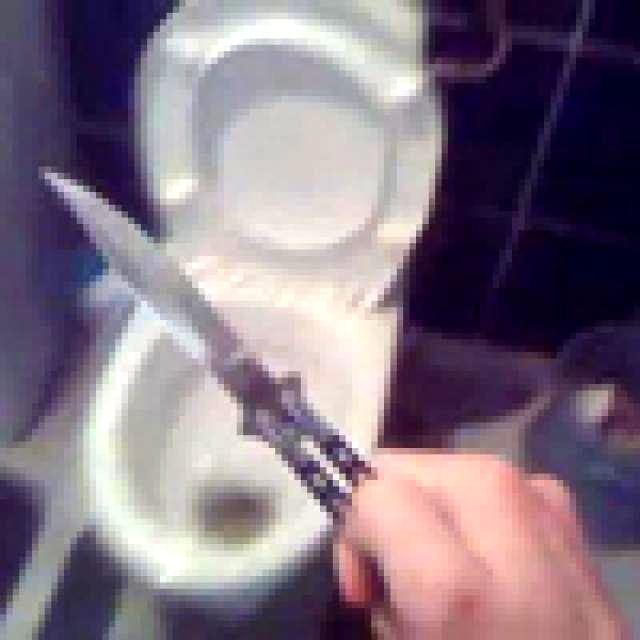pocket-knife: (19, 127, 435, 588)
